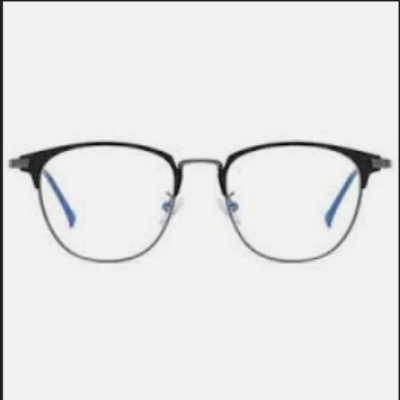glasses: (8, 135, 396, 277)
